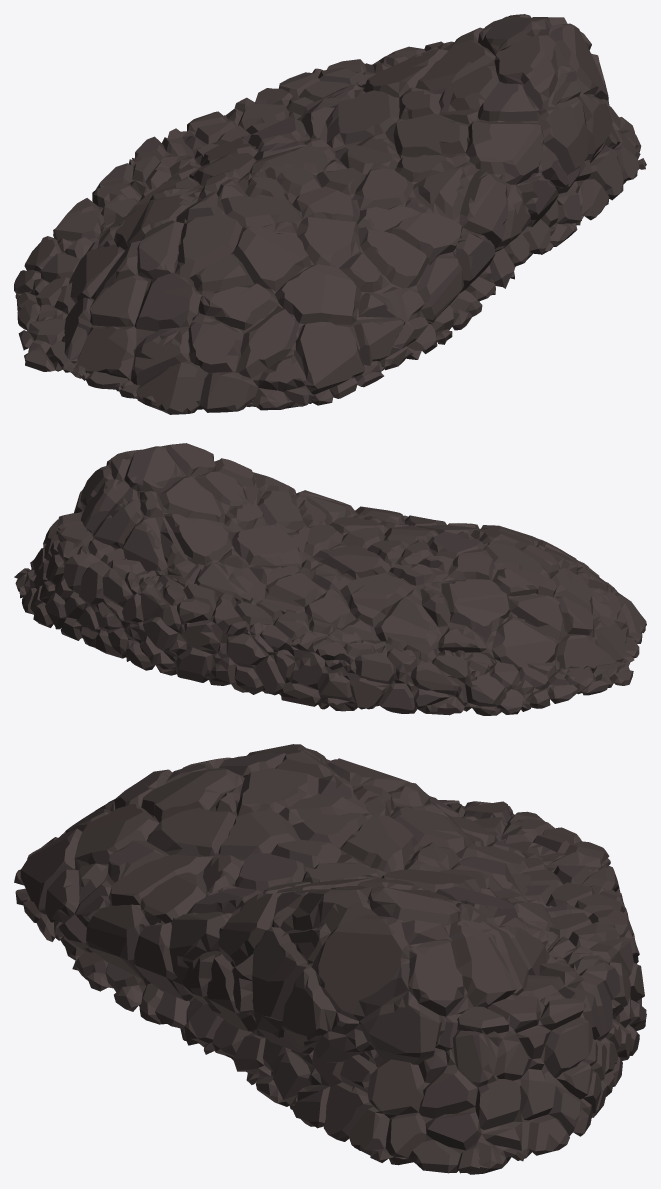
File: StoneBig01.fbx
3 views of the same model, one above another, from view 1: azimuth 30°, elevation 25°; view 2: azimuth 150°, elevation 25°; view 3: azimuth 270°, elevation 25° (orthographic). The views are drawn at different scales.
Parts seen in each view (by area): view 1: Cube.008; view 2: Cube.008; view 3: Cube.008.
Part boxes in pixels (box(x1,y1,x2,y2)): Cube.008: box(14, 14, 646, 414); Cube.008: box(14, 443, 646, 715); Cube.008: box(14, 744, 646, 1174).
Bounding box in the file's own units: 641 × 178 × 425.
